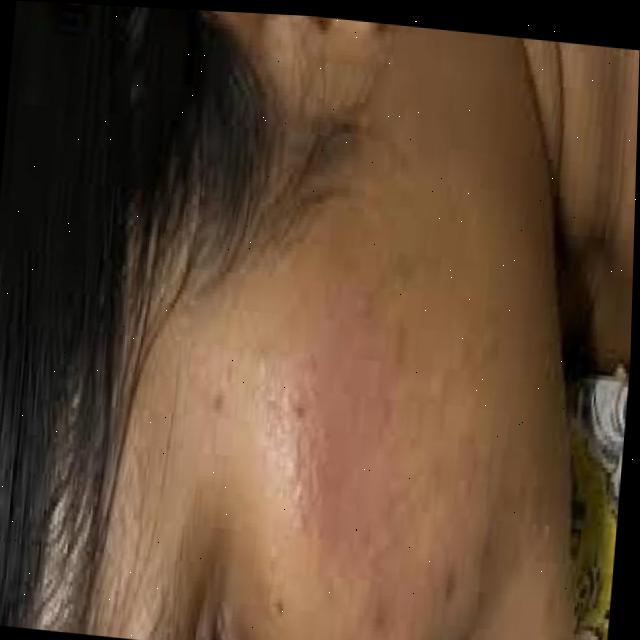Rosacea: (275, 292, 434, 580)
